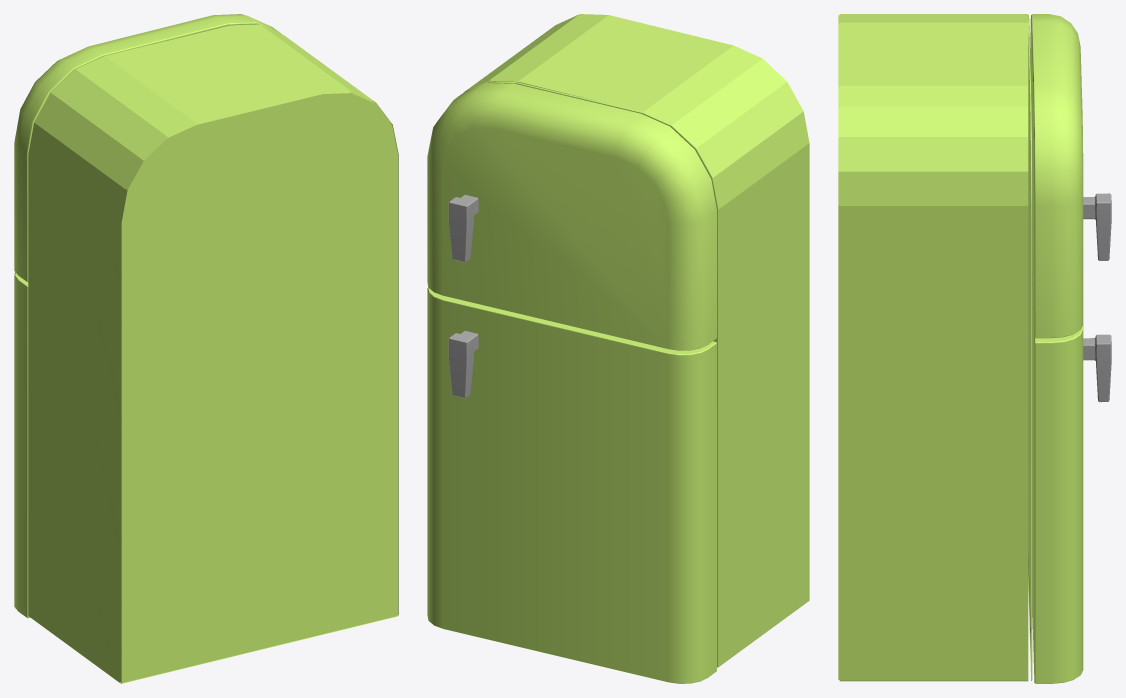
File: Fridge2.fbx
3 views of the same model, side by side, from view 1: azimuth 30°, elevation 25°; view 2: azimuth 150°, elevation 25°; view 3: azimuth 270°, elevation 25° (orthographic). The views are drawn at different scales.
Visible parts, largest first — view 1: Fridge, Fridge Door; view 2: Fridge Door, Fridge; view 3: Fridge, Fridge Door.
Boxes of the visible parts, box(x1,y1,x2,y2) form: Fridge: box(28, 24, 398, 683); Fridge Door: box(14, 14, 281, 618); Fridge Door: box(427, 81, 718, 683); Fridge: box(464, 14, 809, 667); Fridge: box(838, 14, 1028, 681); Fridge Door: box(1028, 14, 1111, 683).
Size of the model in its own units: 200 by 374 by 165.
